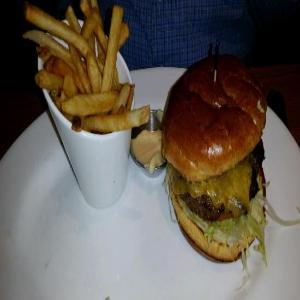cheeseburger: (156, 40, 275, 267)
fries: (22, 1, 152, 141)
